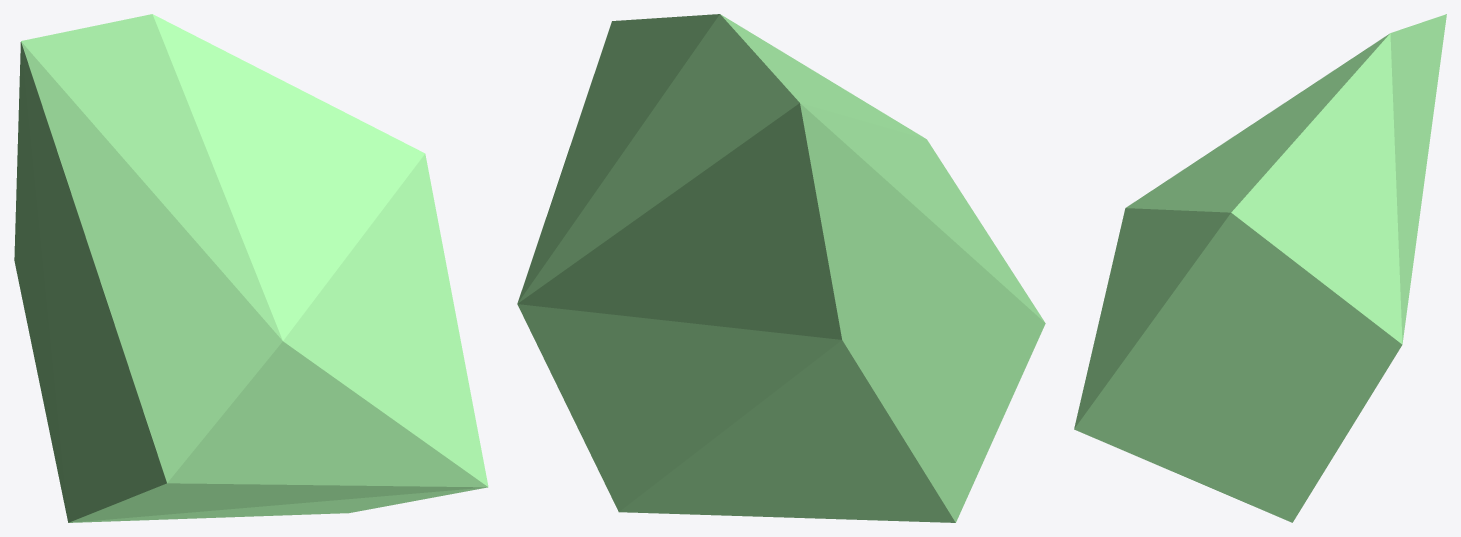
The model's file is UMIRobot_UMIRobot_link_5_convex_coll_48.dae.
3 renders of one model, left to right at view 1: azimuth 30°, elevation 25°; view 2: azimuth 150°, elevation 25°; view 3: azimuth 270°, elevation 25°, orthographic. The views are drawn at different scales.
Visible parts, largest first — view 1: node; view 2: node; view 3: node.
Boxes of the visible parts, left/top/right/bottom form: node: left=14, top=14, right=488, bottom=522; node: left=517, top=14, right=1045, bottom=522; node: left=1074, top=14, right=1446, bottom=522.
Bounding box in the file's own units: 0.00338 × 0.00493 × 0.00388.
